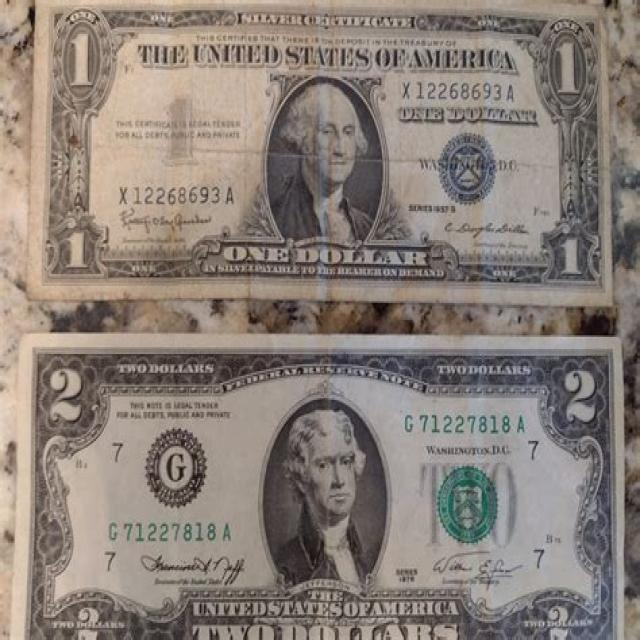One: (31, 0, 618, 308)
Two: (12, 337, 624, 640)
